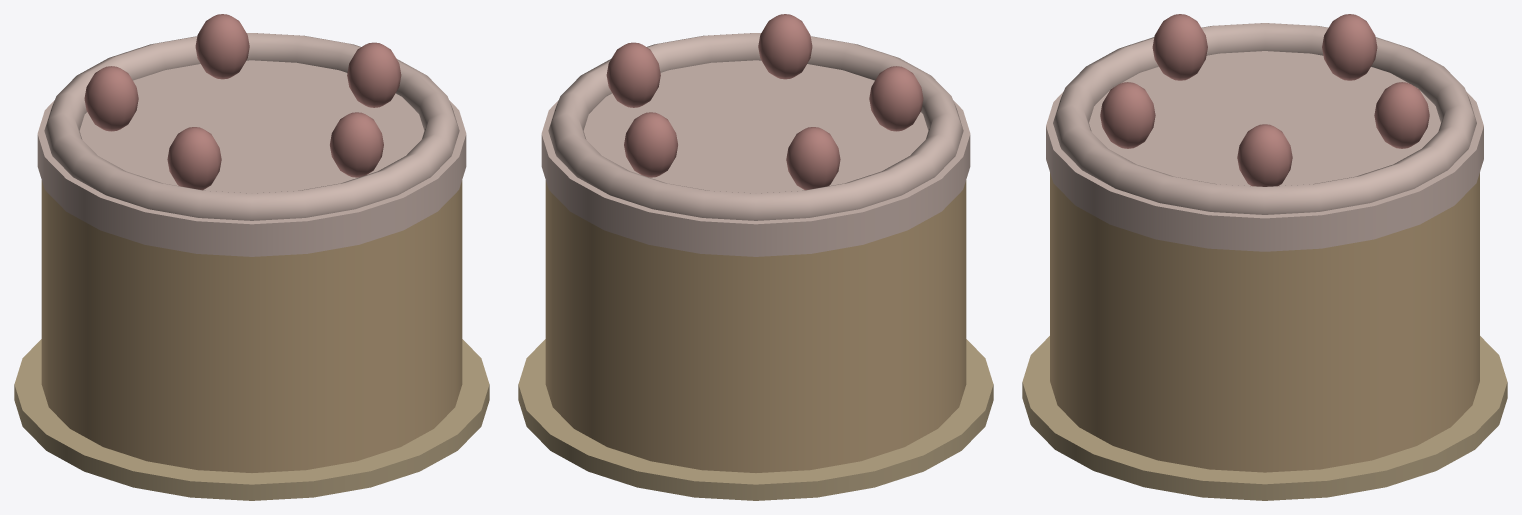
File: cake.glb
The picture shows the model from 3 angles, left to right: view 1: azimuth 30°, elevation 25°; view 2: azimuth 150°, elevation 25°; view 3: azimuth 270°, elevation 25°; orthographic projection. The views are drawn at different scales.
Visible parts, largest first — view 1: sponge-cake, frosting-top, piped-frosting-rim, cake-board, berry-0, berry-3, berry-1, berry-4, berry-2; view 2: sponge-cake, frosting-top, piped-frosting-rim, cake-board, berry-0, berry-2, berry-1, berry-4, berry-3; view 3: sponge-cake, frosting-top, piped-frosting-rim, cake-board, berry-2, berry-3, berry-1, berry-4, berry-0.
Part boxes in pixels (left/top/right/bottom): sponge-cake: left=41, top=180, right=462, bottom=472; frosting-top: left=37, top=60, right=466, bottom=256; piped-frosting-rim: left=44, top=33, right=459, bottom=220; cake-board: left=14, top=339, right=489, bottom=500; berry-0: left=347, top=42, right=401, bottom=107; berry-3: left=84, top=66, right=138, bottom=131; berry-1: left=330, top=112, right=383, bottom=177; berry-4: left=195, top=14, right=249, bottom=79; berry-2: left=167, top=127, right=221, bottom=190; sponge-cake: left=545, top=180, right=966, bottom=472; frosting-top: left=541, top=60, right=970, bottom=256; piped-frosting-rim: left=548, top=33, right=963, bottom=220; cake-board: left=518, top=339, right=993, bottom=500; berry-0: left=606, top=42, right=660, bottom=107; berry-2: left=869, top=66, right=923, bottom=131; berry-1: left=758, top=14, right=812, bottom=79; berry-4: left=624, top=112, right=677, bottom=177; berry-3: left=786, top=127, right=840, bottom=190; sponge-cake: left=1050, top=173, right=1479, bottom=472; frosting-top: left=1046, top=51, right=1483, bottom=251; piped-frosting-rim: left=1053, top=23, right=1476, bottom=214; cake-board: left=1022, top=336, right=1507, bottom=500; berry-2: left=1152, top=14, right=1207, bottom=80; berry-3: left=1322, top=14, right=1377, bottom=80; berry-1: left=1100, top=82, right=1155, bottom=148; berry-4: left=1374, top=82, right=1429, bottom=148; berry-0: left=1237, top=124, right=1292, bottom=186.
Bounding box in the file's own units: 0.35 × 0.2652 × 0.35.
